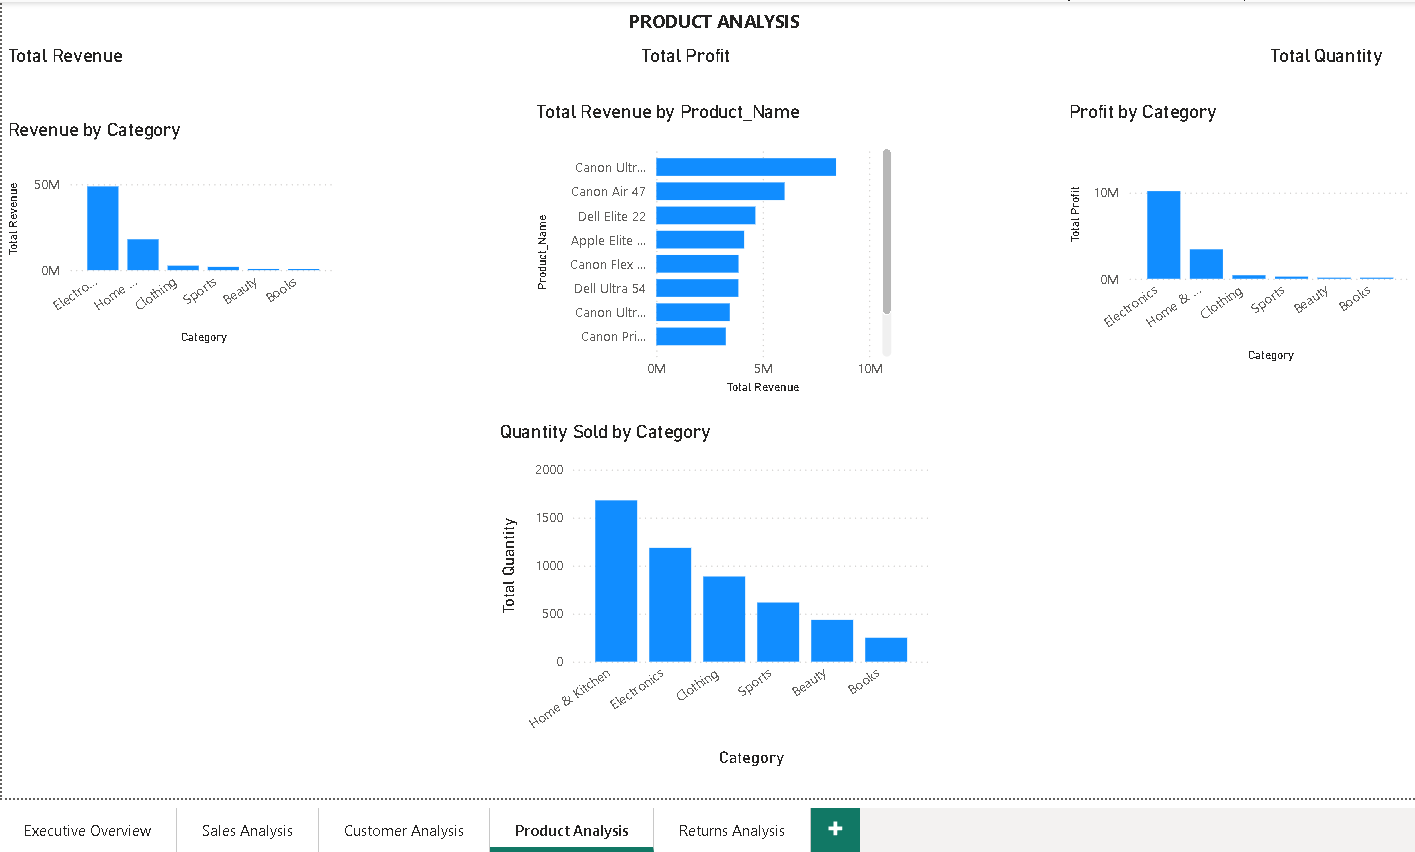

What the dashboard file says about the page in this screenshot:
{"tool":"powerbi","page":{"name":"Product Analysis","canvas":[1280,720],"ordinal":3},"visuals":[{"type":"textbox","box":[9.6,0,1270.7,38.4],"z":0},{"type":"kpi","fields":{"Indicator":["Orders_Cleaned.Total Revenue"]},"box":[0,38.4,133.1,134.5],"z":1},{"type":"kpi","fields":{"Indicator":["Orders_Cleaned.Total Profit"]},"box":[573.6,38.4,141.3,134.5],"z":2},{"type":"kpi","fields":{"Indicator":["Orders_Cleaned.Total Quantity"]},"box":[1141.7,38.4,138.6,134.5],"z":3},{"type":"columnChart","title":"Revenue by Category","fields":{"Category":["Products_Cleaned.Category"],"Y":["Orders_Cleaned.Total Revenue"]},"box":[0,105.2,307.5,209.2],"z":4},{"type":"barChart","fields":{"Category":["Products_Cleaned.Product_Name"],"Y":["Orders_Cleaned.Total Revenue"]},"box":[478.3,89.3,331.3,270.2],"z":5},{"type":"columnChart","title":"Profit by Category","fields":{"Category":["Products_Cleaned.Category"],"Y":["Orders_Cleaned.Total Profit"]},"box":[959.9,89.3,320,240.8],"z":6},{"type":"columnChart","title":"Quantity Sold by Category","fields":{"Category":["Products_Cleaned.Category"],"Y":["Orders_Cleaned.Total Quantity"]},"box":[445.5,378.8,399.1,317.7],"z":7}]}

Visuals, with their boxes on the page's 1280x720 design canvas (x1, y1, x2, y2). These are canvas units, not pixel positions in the 1415x852 screenshot, which may show the page scaled, cropped or inside an application window:
textbox: l=10, t=0, r=1280, b=38
kpi - Orders_Cleaned.Total Revenue: l=0, t=38, r=133, b=173
kpi - Orders_Cleaned.Total Profit: l=574, t=38, r=715, b=173
kpi - Orders_Cleaned.Total Quantity: l=1142, t=38, r=1280, b=173
"Revenue by Category" columnChart: l=0, t=105, r=308, b=314
barChart - Products_Cleaned.Product_Name x Orders_Cleaned.Total Revenue: l=478, t=89, r=810, b=360
"Profit by Category" columnChart: l=960, t=89, r=1280, b=330
"Quantity Sold by Category" columnChart: l=446, t=379, r=845, b=696
